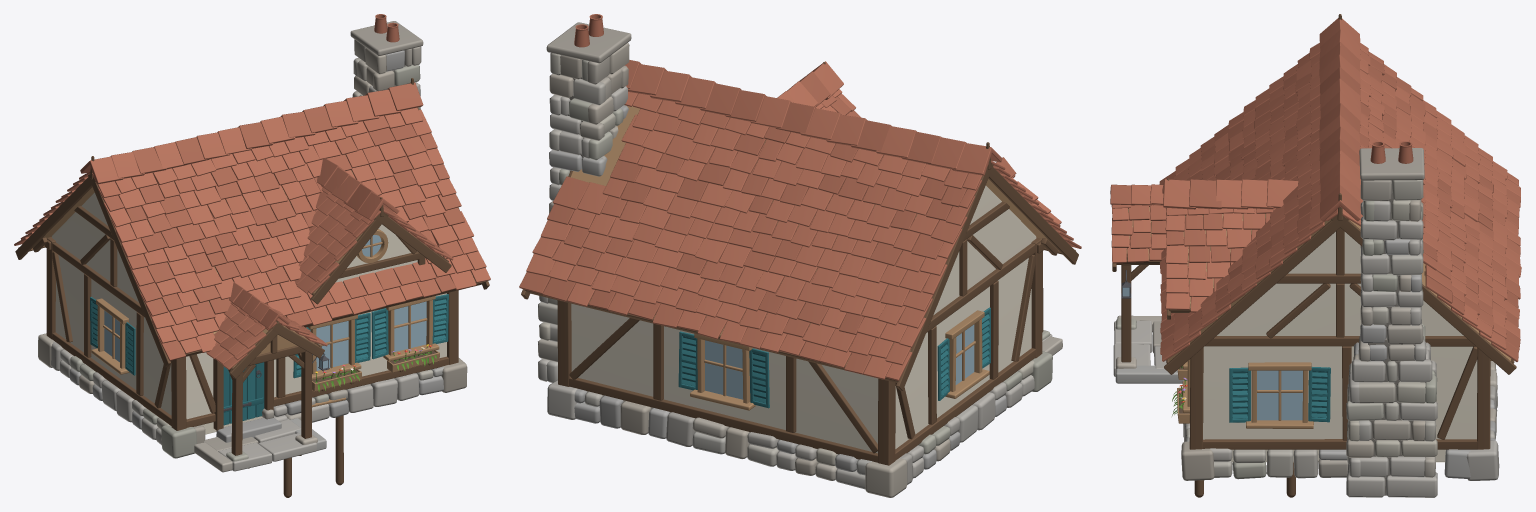
The model's file is structures.glb.
The picture shows the model from 3 angles, left to right: view 1: azimuth 30°, elevation 25°; view 2: azimuth 150°, elevation 25°; view 3: azimuth 270°, elevation 25°; orthographic projection. The views are drawn at different scales.
Visible parts, largest first — view 1: cottage, dock; view 2: cottage; view 3: cottage.
Boxes of the visible parts, x1,y1,x2,y2 form: cottage: (14, 14, 490, 472); dock: (248, 397, 345, 497); cottage: (519, 14, 1081, 497); cottage: (1110, 14, 1521, 497).
Bounding box in the file's own units: 8.01 × 8.19 × 7.15.
